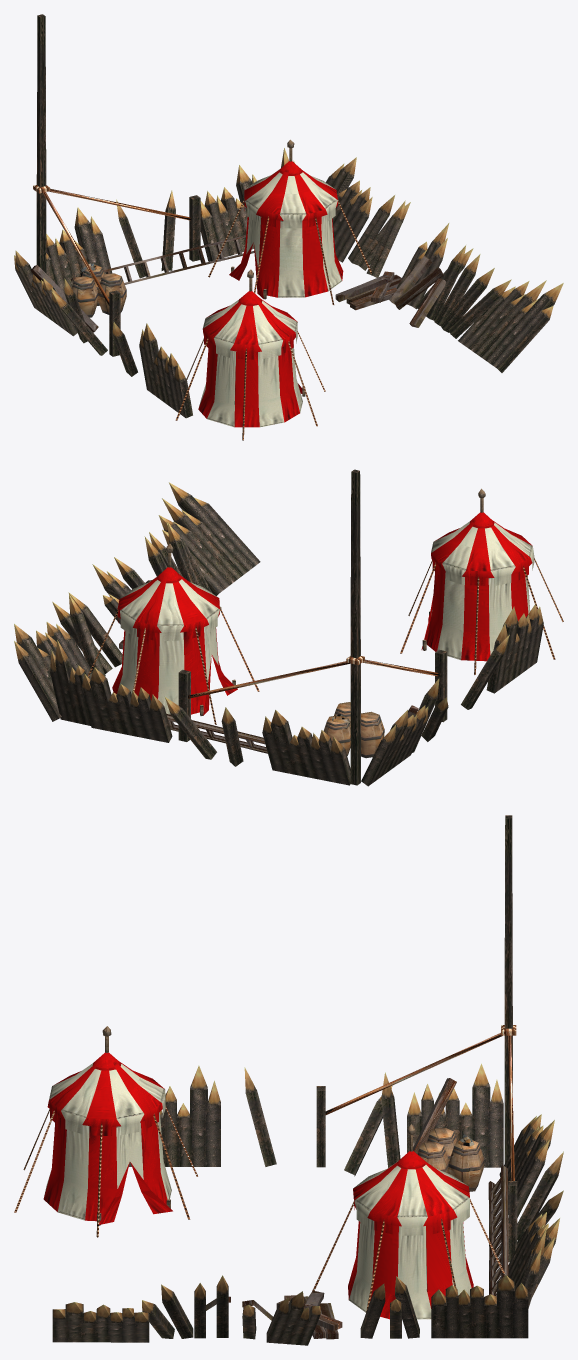
Rendered from building_siege_camp.glb.
The picture shows the model from 3 angles, top to bottom: view 1: azimuth 30°, elevation 25°; view 2: azimuth 150°, elevation 25°; view 3: azimuth 270°, elevation 25°; orthographic projection. The views are drawn at different scales.
Parts seen in each view (by area): view 1: building_siege_camp; view 2: building_siege_camp; view 3: building_siege_camp.
Boxes of the visible parts, x1,y1,x2,y2 form: building_siege_camp: (14, 14, 563, 440); building_siege_camp: (14, 469, 563, 786); building_siege_camp: (14, 815, 563, 1345).
Size of the model in its own units: 13.28 by 9.72 by 13.33.
10 materials, 10 textured.
